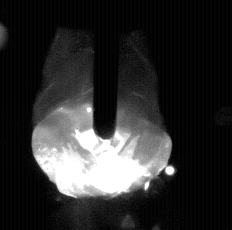arame: (95, 0, 118, 139)
poca: (31, 0, 172, 230)
